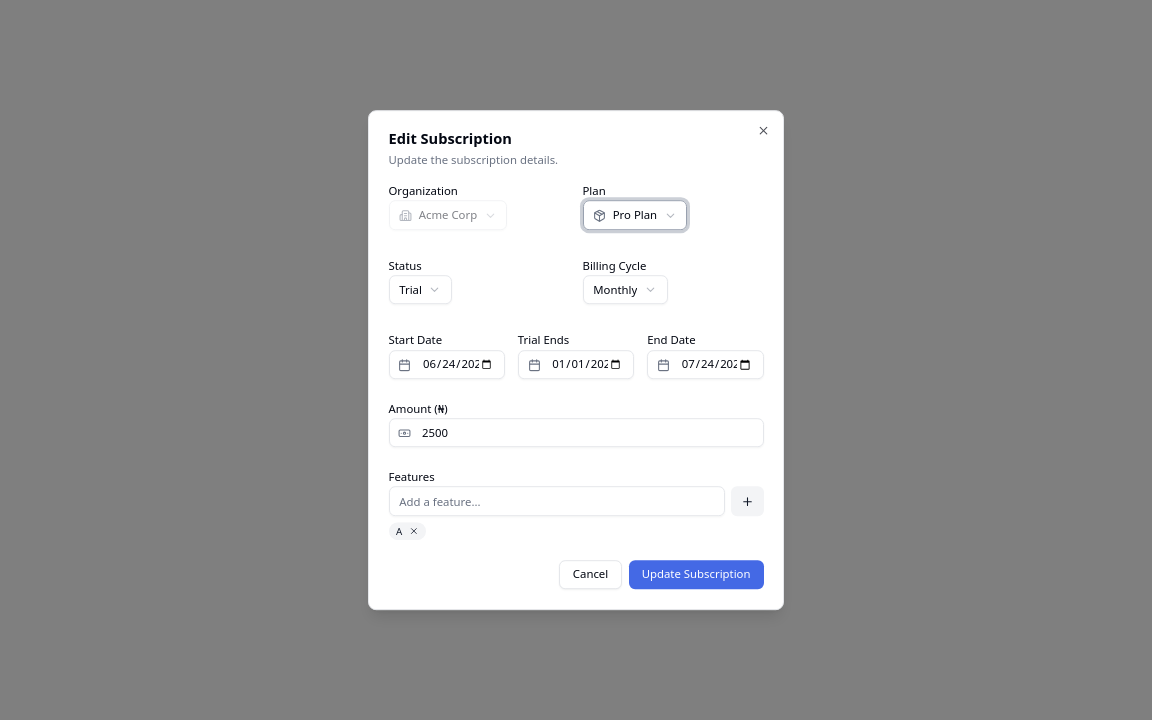
Test: SubscriptionForm › blocks saving a trial whose trial end is in the past (UAC-4)
This screenshot has width=1152, height=720.
Expected: the heading "Edit Subscription" is shown, x1=388 y1=128 x2=512 y2=148
What coordinates should you click on to do the following:
click the button "Update Subscription"
I would click on:
 (696, 575)
Its box is x1=629 y1=560 x2=764 y2=589.
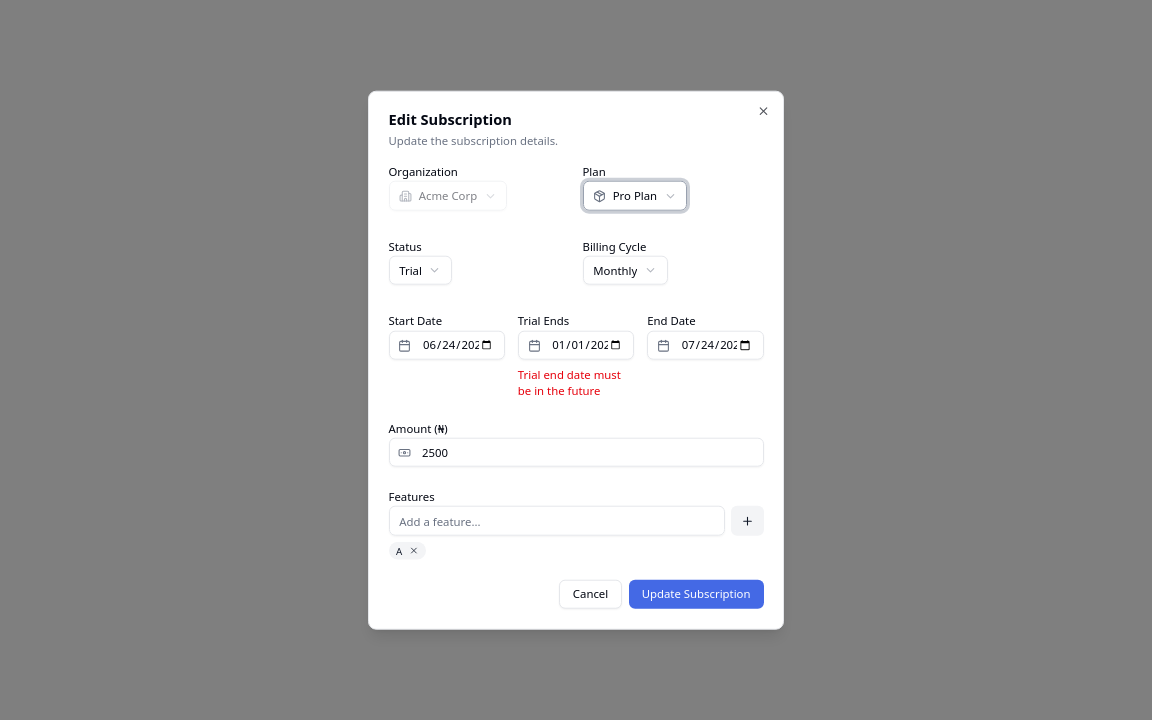
Expected: the text "Trial end date must be in the future" is shown, x1=518 y1=366 x2=634 y2=399
